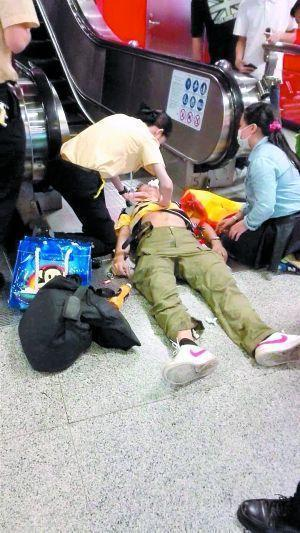Fall-Detected: (101, 159, 296, 387)
